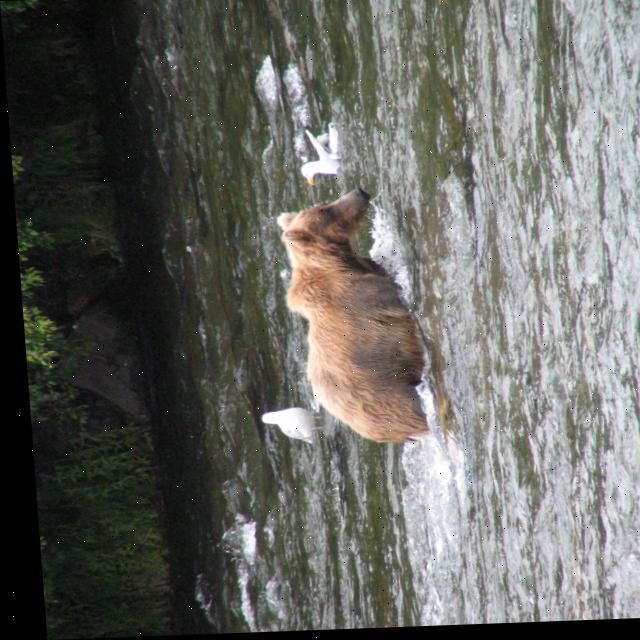bear face: (270, 187, 427, 448)
